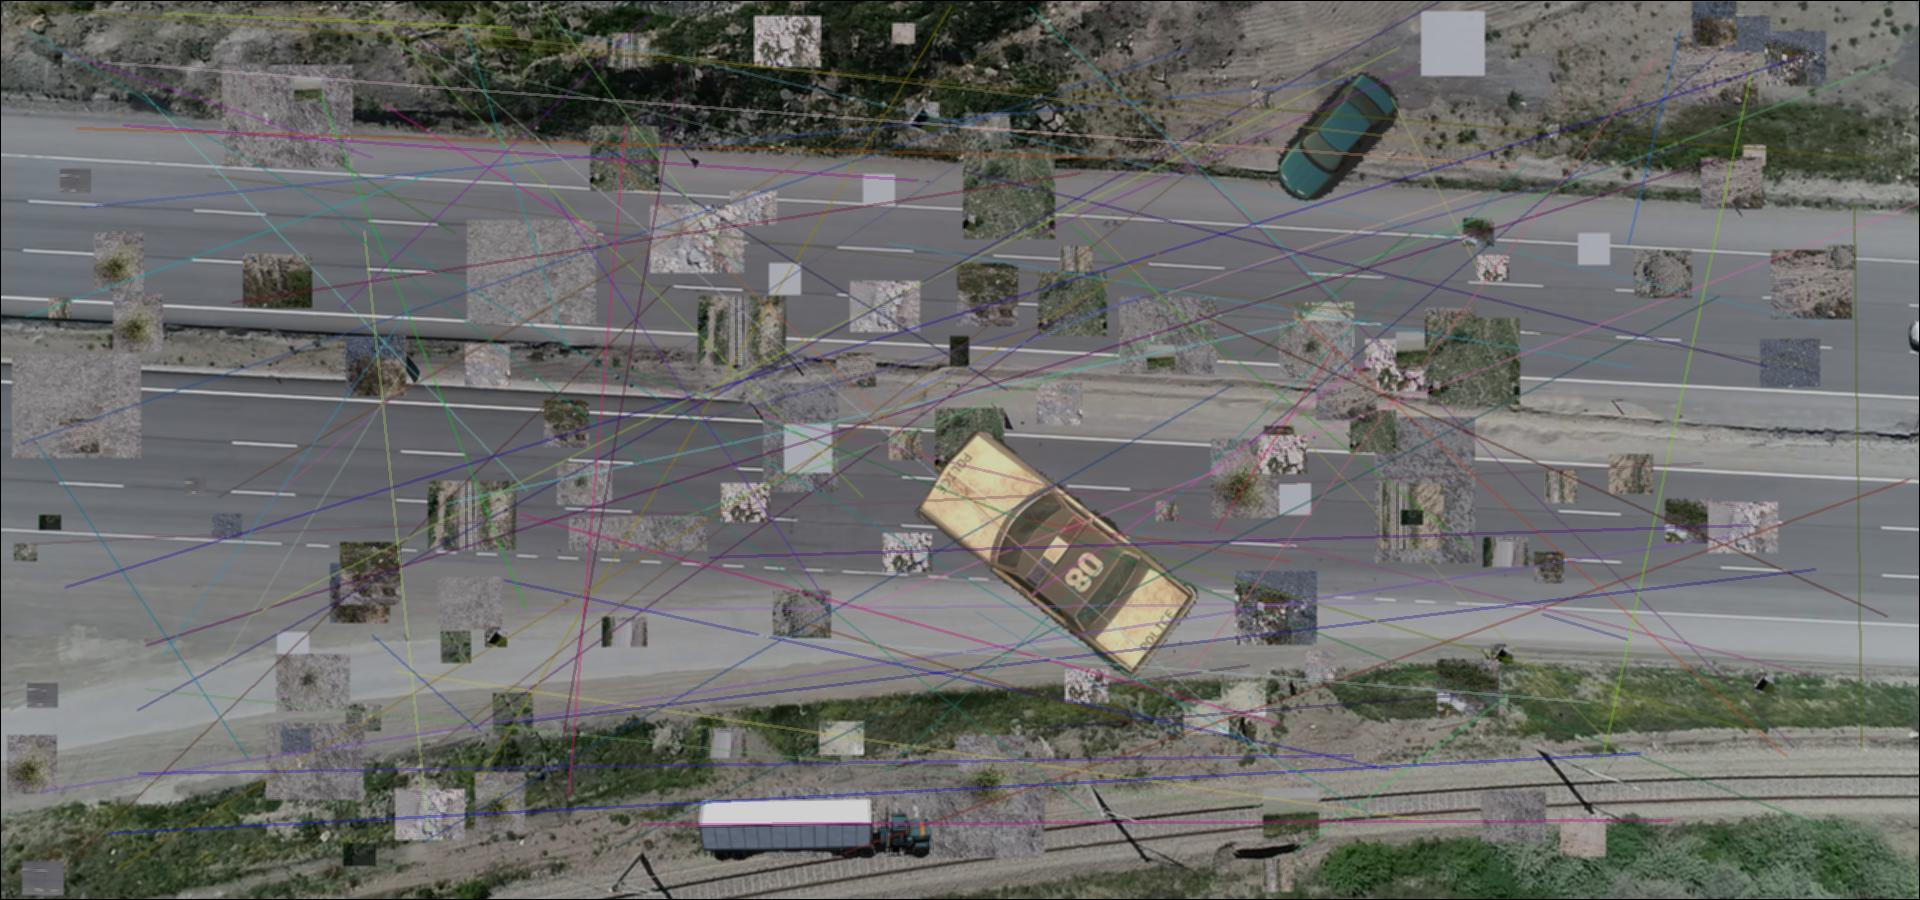arac: (911, 422, 1202, 684), (1278, 65, 1400, 202), (696, 797, 933, 862)
